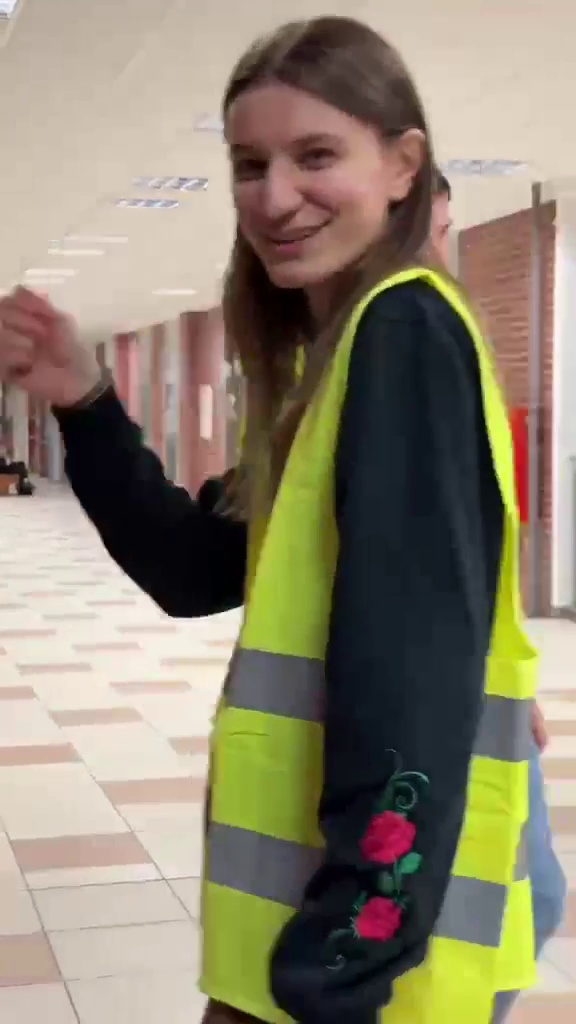vest: (185, 32, 550, 996)
